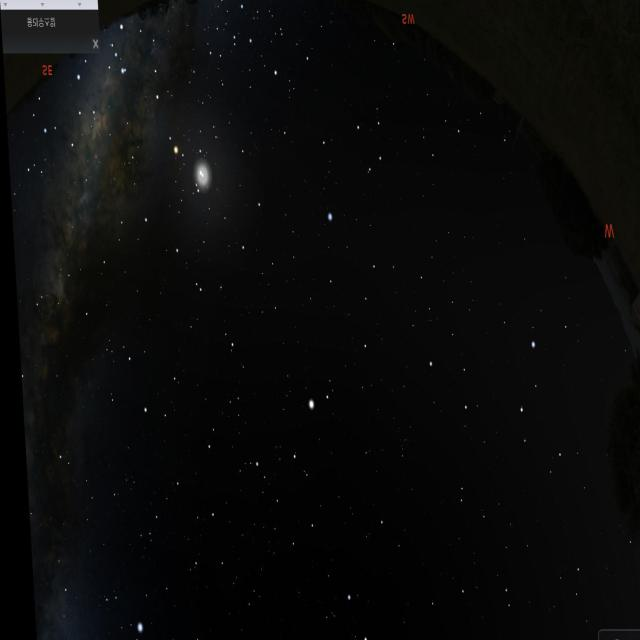bootes: (252, 378, 336, 560)
leo: (419, 328, 563, 479)
lyra: (95, 578, 140, 640)
moon: (183, 136, 222, 217)
scorpius: (102, 18, 223, 203)
